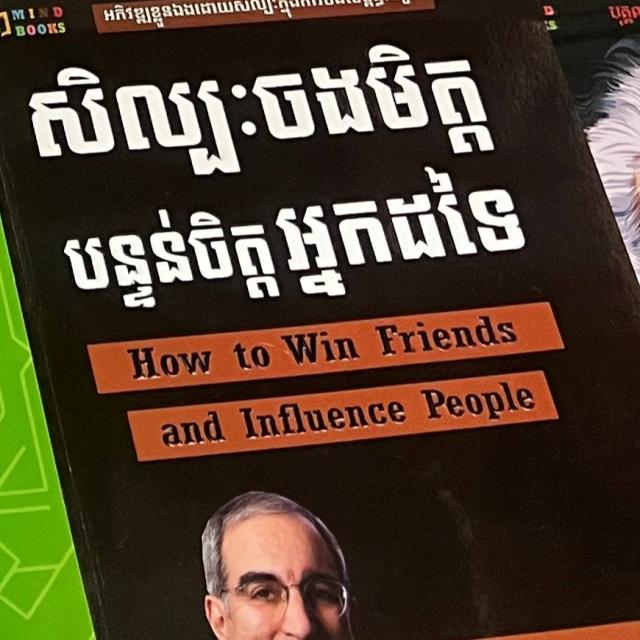Yolov11kh: (18, 23, 504, 202), (57, 150, 544, 322)
